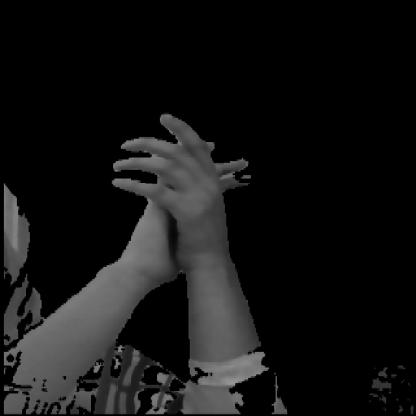clap: (73, 107, 276, 320)
